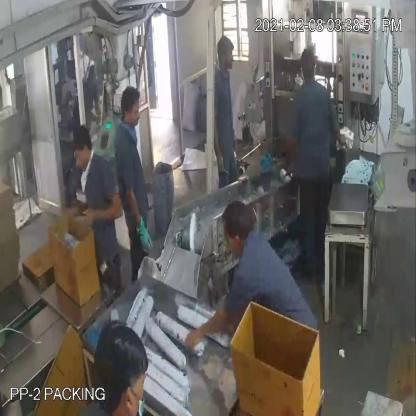no_glove: (178, 302, 238, 367), (71, 191, 124, 231)
